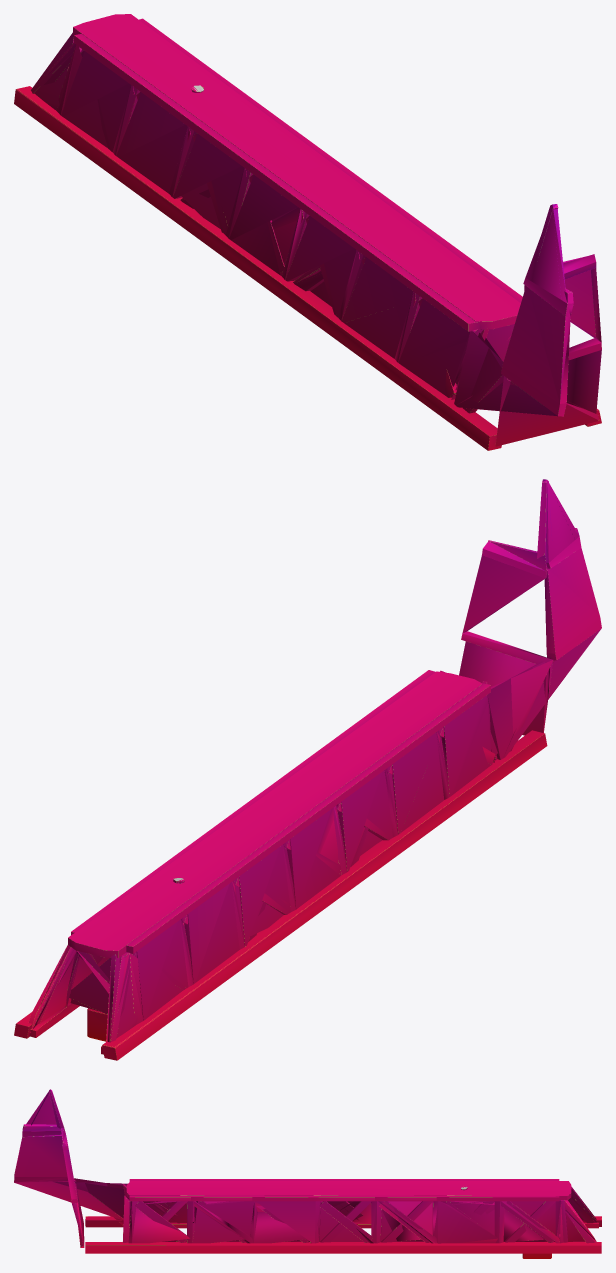
Rendered from wl_crane_lattice.glb.
3 views of the same model, one above another, from view 1: azimuth 30°, elevation 25°; view 2: azimuth 150°, elevation 25°; view 3: azimuth 270°, elevation 25° (orthographic). The views are drawn at different scales.
Visible parts, largest first — view 1: wl_crane_lattice; view 2: wl_crane_lattice; view 3: wl_crane_lattice.
Part boxes in pixels (box(x1,y1,x2,y2)): wl_crane_lattice: box(14, 14, 601, 450); wl_crane_lattice: box(14, 479, 601, 1060); wl_crane_lattice: box(14, 1089, 601, 1258).
Bounding box in the file's own units: 1.3 × 3.15 × 10.65.
